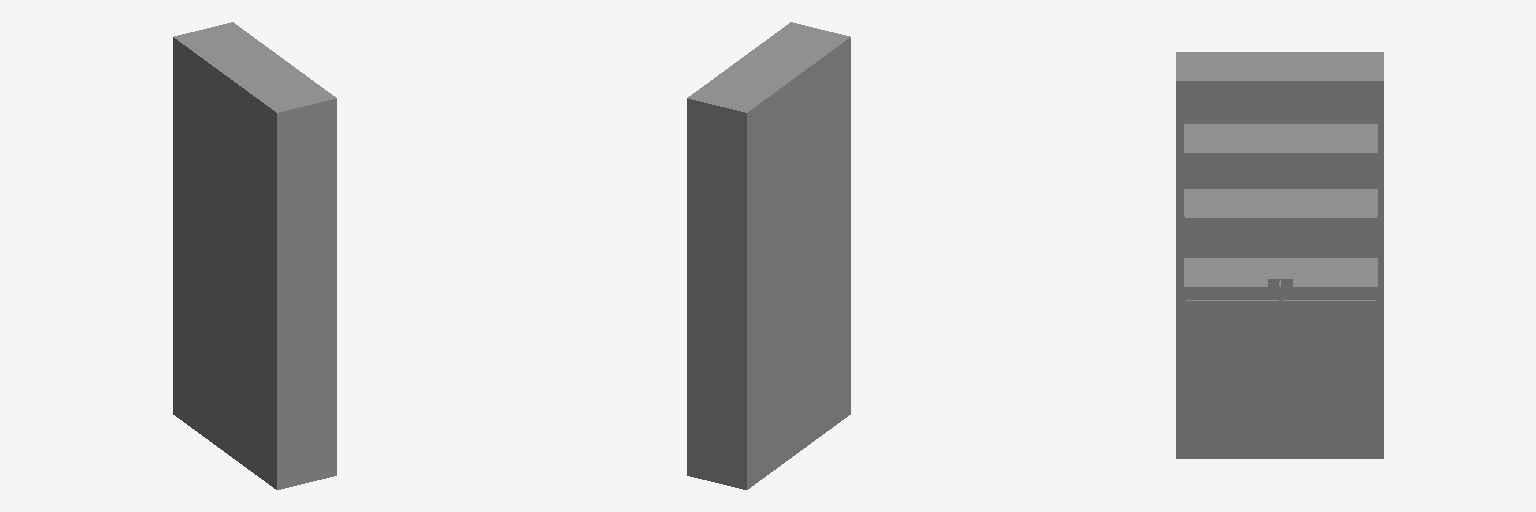
File: Lock.obj
3 views of the same model, side by side, from view 1: azimuth 30°, elevation 25°; view 2: azimuth 150°, elevation 25°; view 3: azimuth 270°, elevation 25° (orthographic).
Parts seen in each view (by area): view 1: Shelf_Body_Cube.001; view 2: Shelf_Body_Cube.001; view 3: Shelf_Body_Cube.001.
Part boxes in pixels (x1,y1,x2,y2): Shelf_Body_Cube.001: (173, 22, 336, 489); Shelf_Body_Cube.001: (687, 22, 850, 489); Shelf_Body_Cube.001: (1176, 52, 1383, 458).
Bounding box in the file's own units: 62 × 360 × 180.